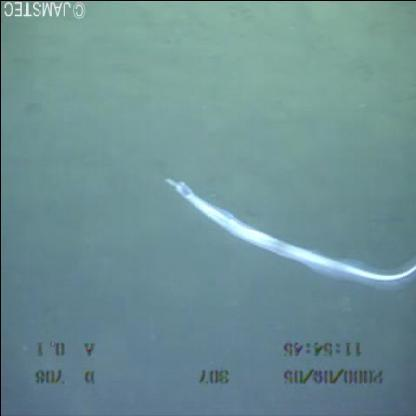Bio: (155, 168, 415, 288)
